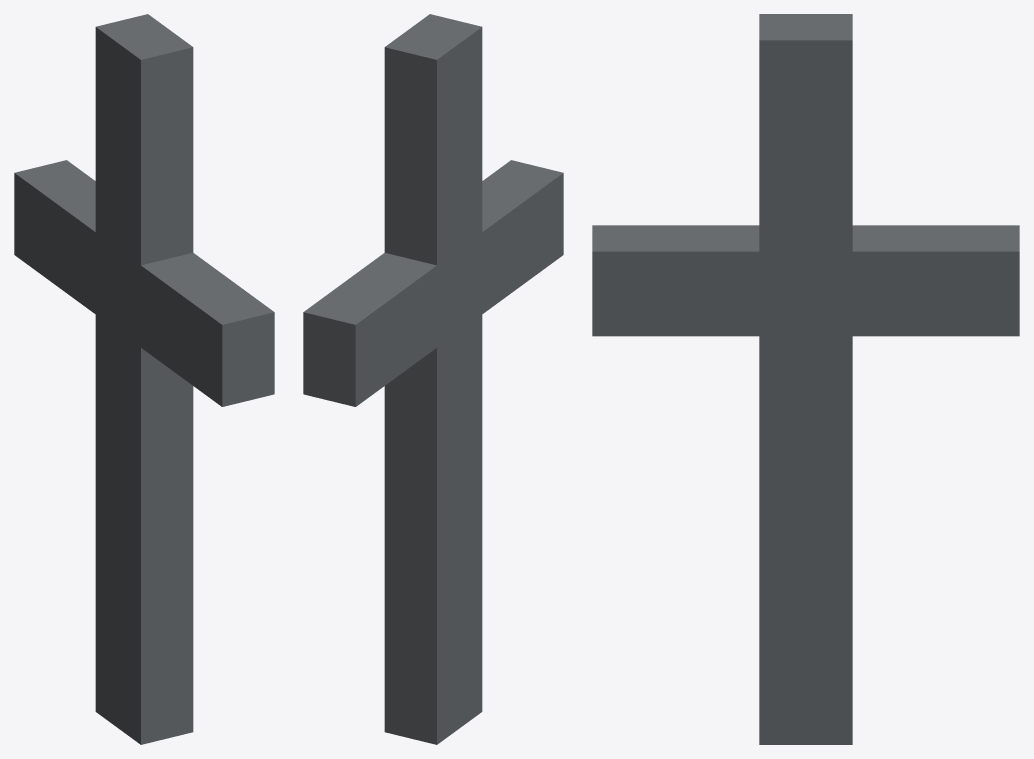
Rendered from LoopInsert__Cross.fbx.
3 views of the same model, side by side, from view 1: azimuth 30°, elevation 25°; view 2: azimuth 150°, elevation 25°; view 3: azimuth 270°, elevation 25° (orthographic). The views are drawn at different scales.
Parts seen in each view (by area): view 1: LoopInsert__Cross; view 2: LoopInsert__Cross; view 3: LoopInsert__Cross.
Part boxes in pixels (<box>): LoopInsert__Cross: <box>14,14,274,744</box>; LoopInsert__Cross: <box>303,14,563,744</box>; LoopInsert__Cross: <box>592,14,1019,744</box>.
Bounding box in the file's own units: 8 × 100 × 55.
1 material, 1 textured.
